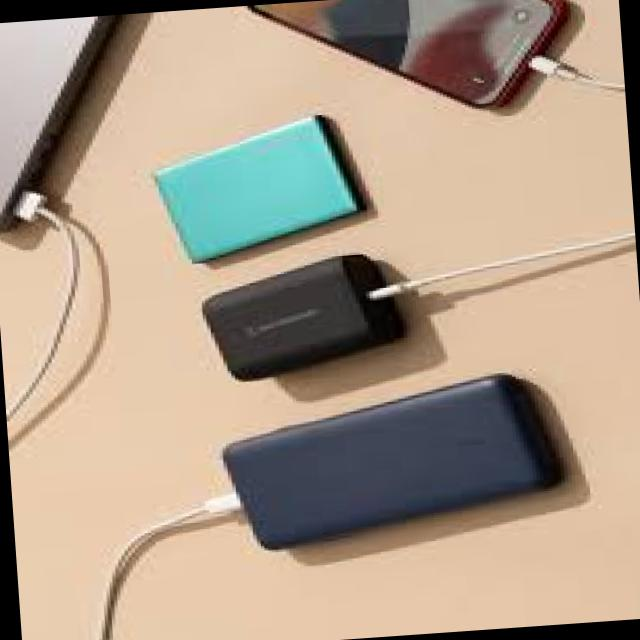portable-charger: (214, 366, 571, 554), (148, 109, 367, 261), (194, 247, 404, 383)
